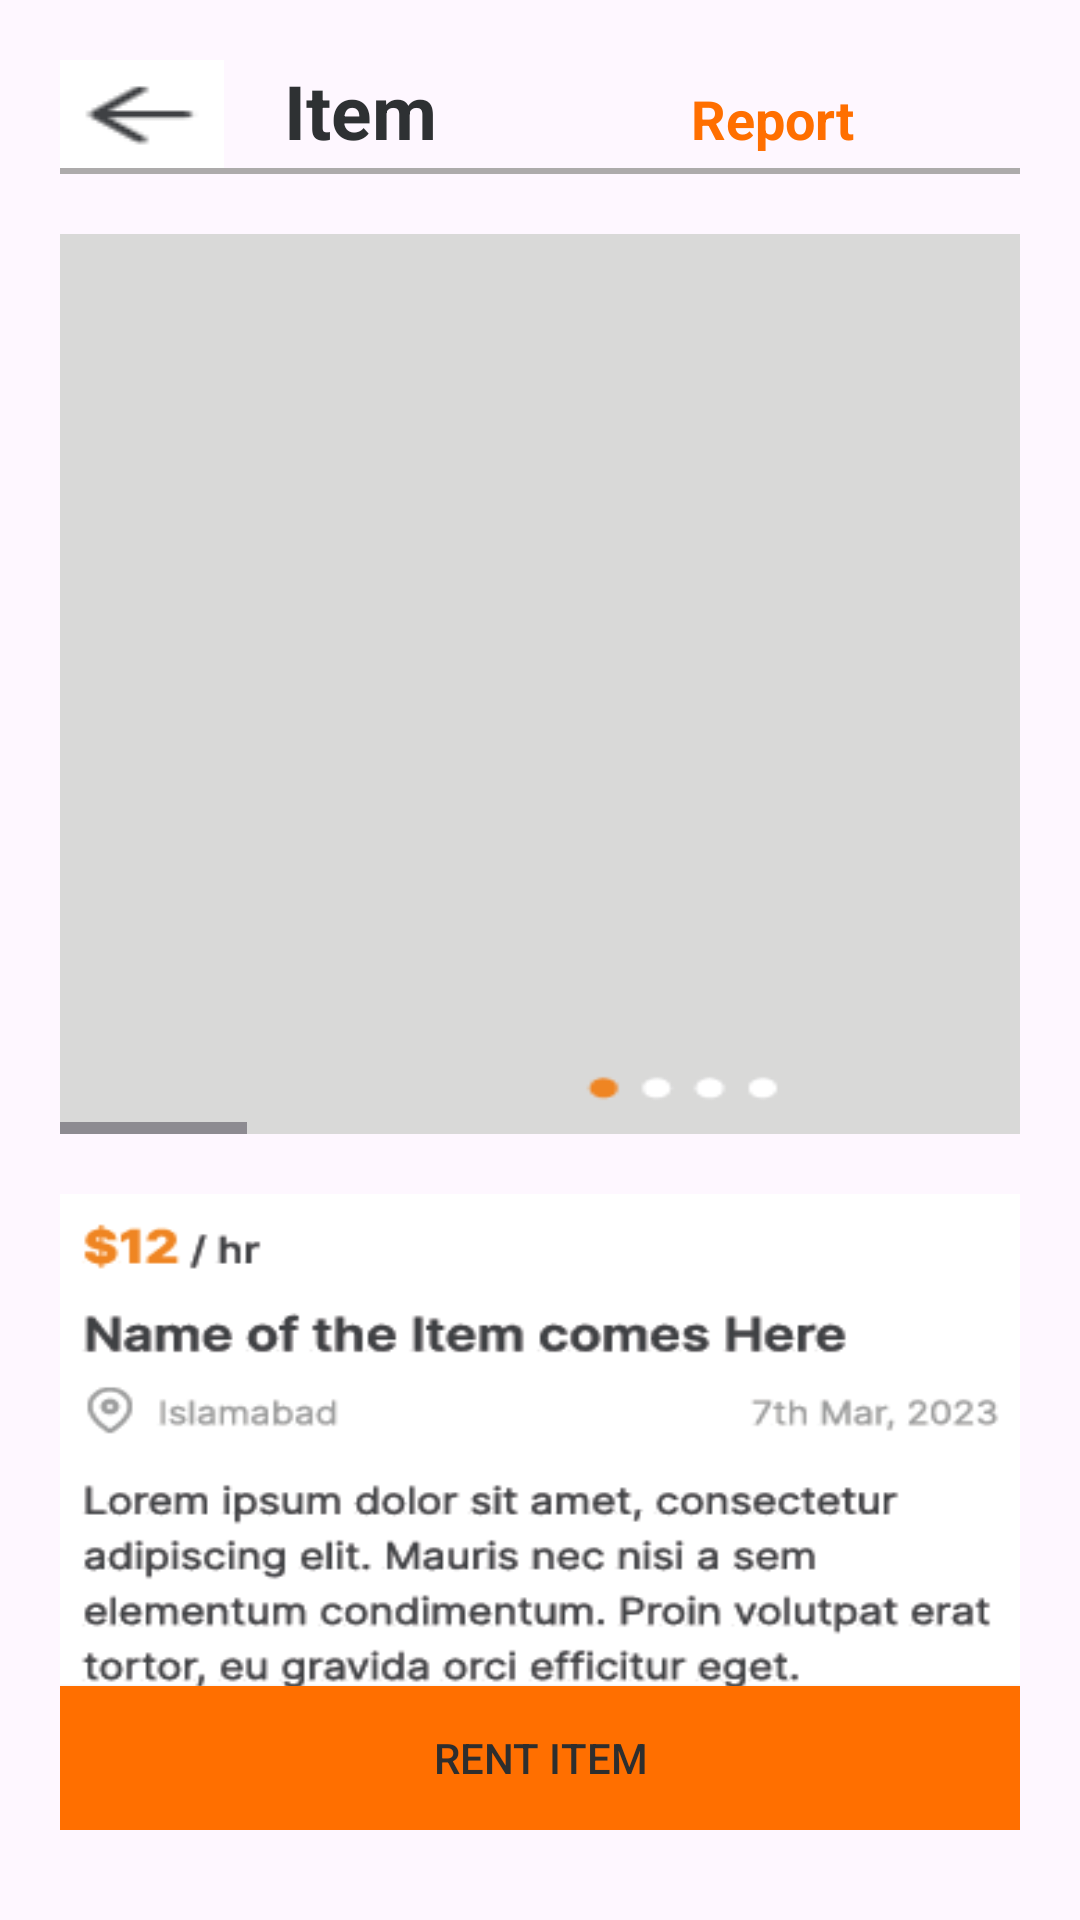

Point at icon controls on the screen. Image size 1080 x 1920, points as point (x, y).
back: point (140, 115)
